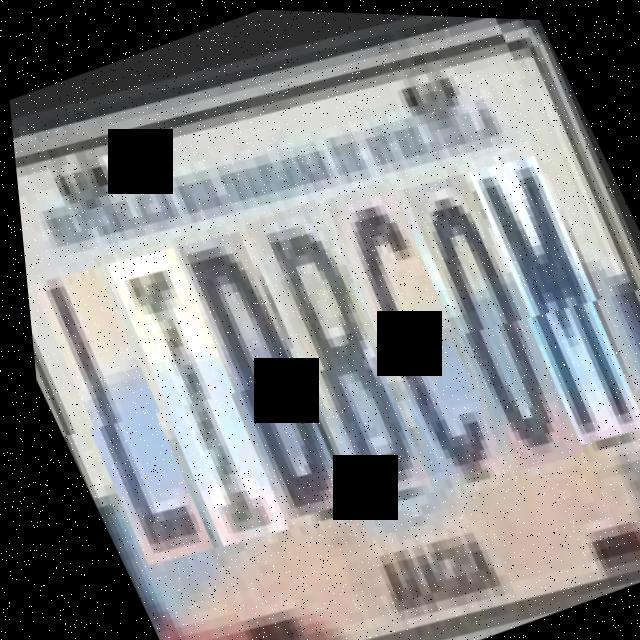B: (238, 195, 436, 496)
C: (312, 173, 511, 475)
D: (163, 219, 356, 517)
I: (93, 236, 295, 546)
L: (19, 257, 221, 568)
M: (453, 134, 640, 435)
O: (387, 154, 585, 463)
